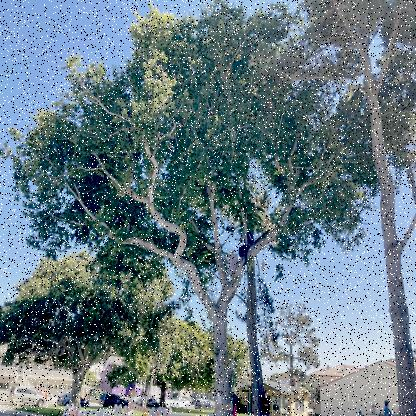Tree: (0, 0, 415, 415), (148, 69, 350, 416), (252, 0, 415, 415), (0, 238, 176, 416), (125, 306, 253, 416), (104, 306, 166, 407), (258, 305, 324, 389)
